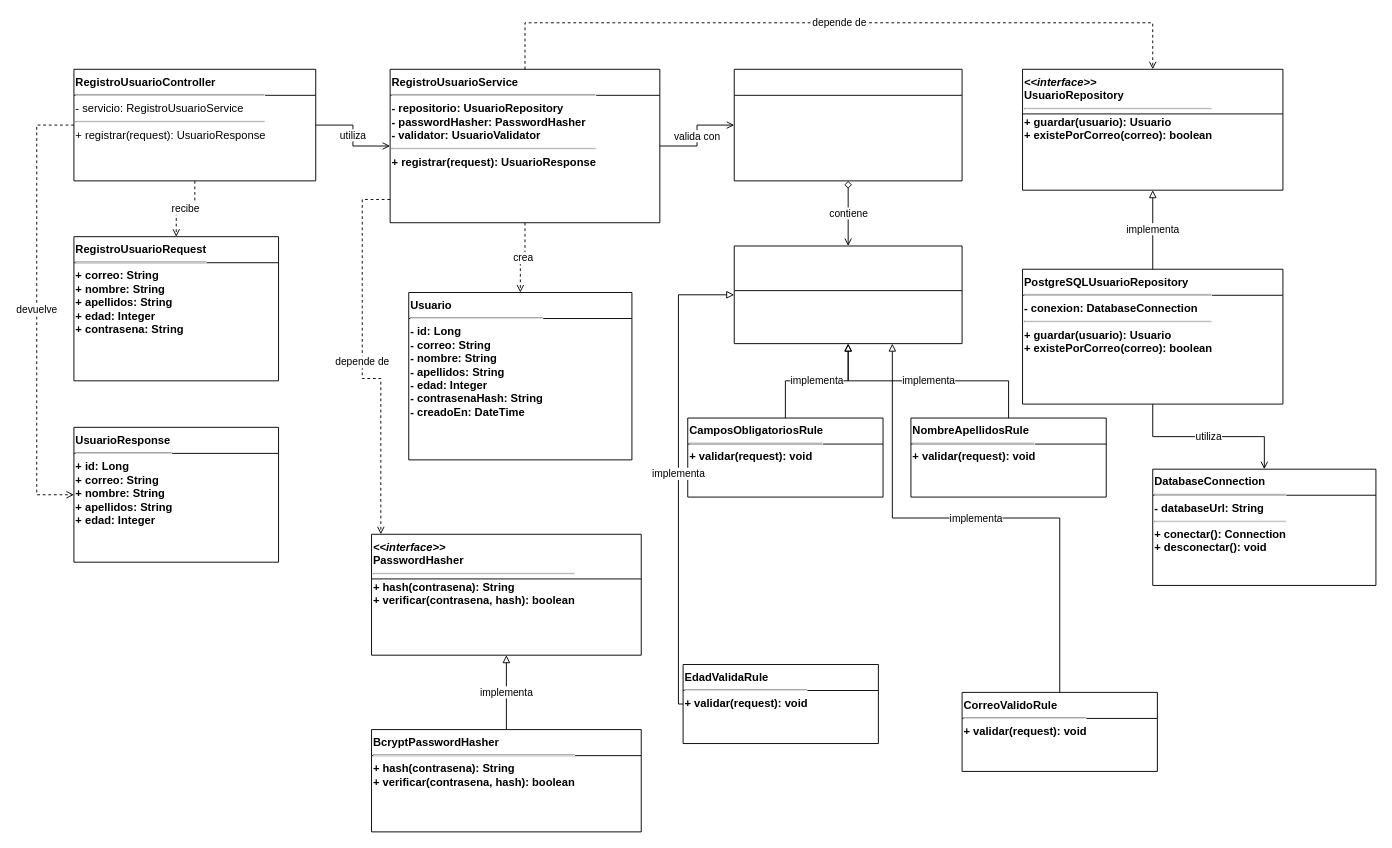
Image size: 1392x848. Some labels were removed from this diagram. The centre of each missing label's shape, as x and y in pixels:
"<<interface>> ValidationRule + validar(request): void" goes at (x=847, y=294).
"UsuarioValidator - reglas: List<ValidationRule> + validar(request): void" goes at (x=847, y=124).
